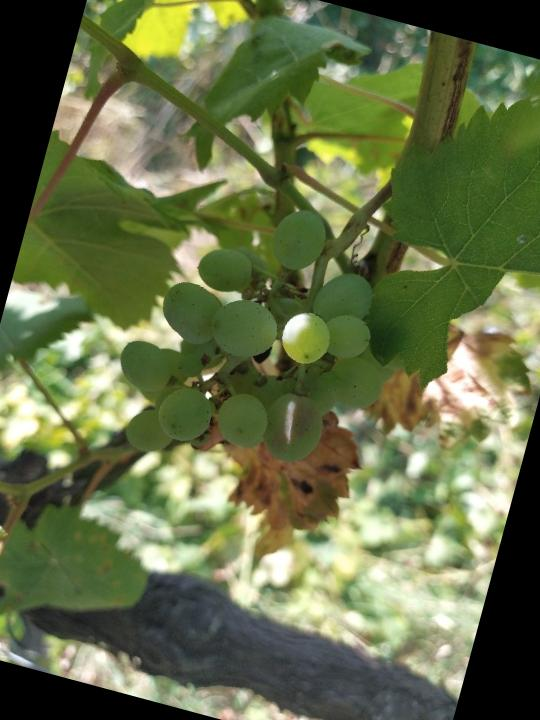grape: (94, 172, 433, 515)
